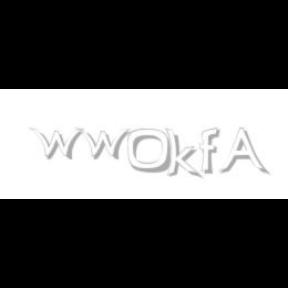A: (219, 128, 267, 176)
O: (128, 128, 172, 174)
f: (200, 128, 224, 174)
k: (165, 128, 203, 180)
w: (30, 128, 88, 160), (76, 128, 134, 160)
